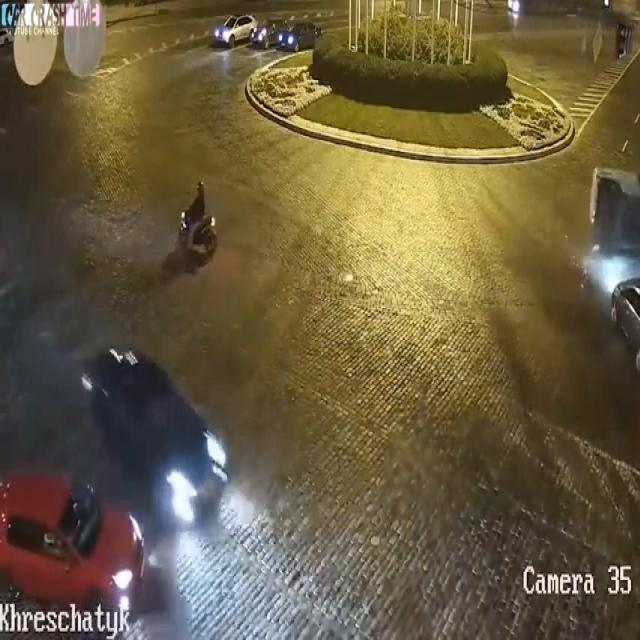Accident: (588, 146, 640, 358)
